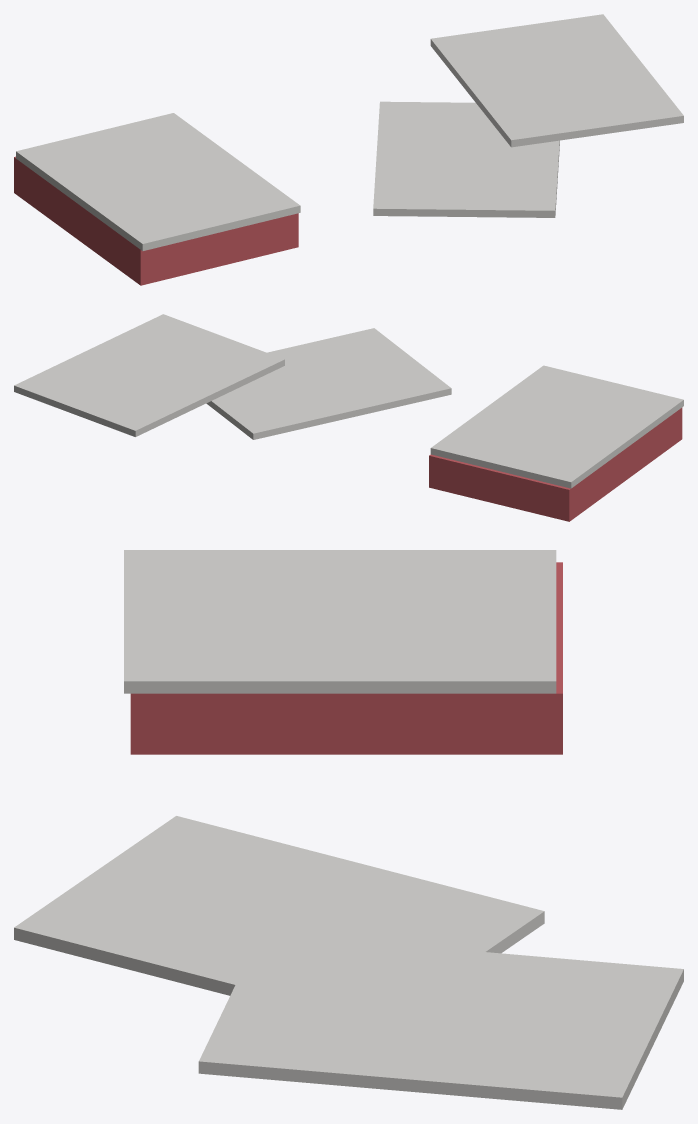
Rendered from playing-cards.glb.
The picture shows the model from 3 angles, top to bottom: view 1: azimuth 30°, elevation 25°; view 2: azimuth 150°, elevation 25°; view 3: azimuth 270°, elevation 25°; orthographic projection. The views are drawn at different scales.
Visible parts, largest first — view 1: geometry_0; view 2: geometry_0; view 3: geometry_0.
Part boxes in pixels (left/top/right/bottom): geometry_0: left=14, top=14, right=683, bottom=285; geometry_0: left=14, top=314, right=683, bottom=521; geometry_0: left=14, top=550, right=683, bottom=1109.
Size of the model in its own units: 0.1769 by 0.012 by 0.0992.
